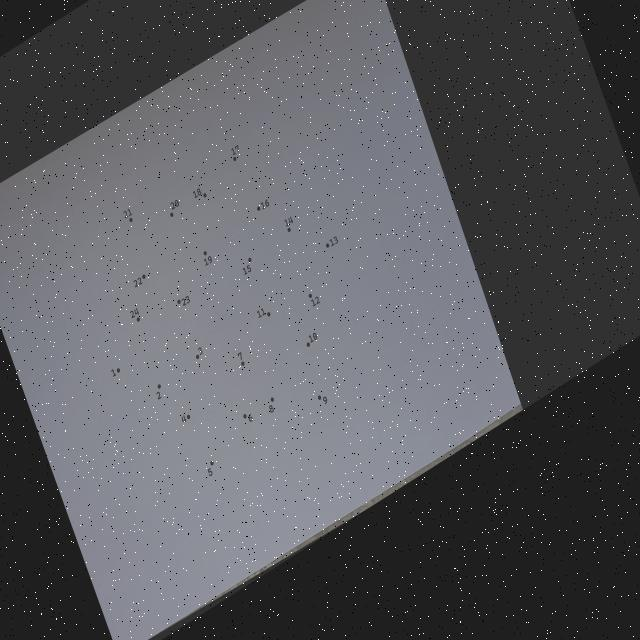Dot: (129, 217, 133, 223), (232, 156, 236, 162), (142, 274, 146, 280), (177, 299, 181, 305), (210, 460, 214, 466), (170, 212, 174, 217), (203, 251, 207, 256), (136, 317, 140, 322), (267, 312, 271, 317), (157, 384, 161, 389), (241, 361, 245, 366), (243, 414, 247, 419), (270, 397, 274, 402), (318, 395, 322, 400), (306, 342, 310, 347), (257, 206, 261, 211), (196, 354, 199, 360), (187, 414, 190, 420), (248, 258, 252, 262), (287, 228, 291, 232), (117, 368, 120, 373), (326, 243, 329, 248), (309, 294, 312, 298), (204, 193, 206, 198)
DotNumber: (306, 332, 318, 348), (133, 274, 146, 288), (242, 258, 252, 275), (308, 293, 320, 307), (170, 200, 179, 217), (284, 216, 293, 233), (123, 208, 133, 223), (203, 251, 213, 266), (130, 307, 140, 322), (257, 199, 269, 211), (326, 236, 338, 248), (193, 188, 207, 198), (177, 296, 191, 306), (257, 308, 271, 318), (231, 145, 239, 162), (237, 352, 245, 366), (207, 461, 214, 476), (318, 395, 328, 405), (156, 384, 162, 400), (243, 413, 253, 422), (196, 347, 203, 359), (111, 368, 120, 377), (269, 397, 274, 413), (182, 414, 190, 423)
Number: (260, 198, 270, 210), (133, 277, 143, 288), (308, 332, 318, 343), (123, 208, 133, 218), (242, 265, 252, 275), (311, 296, 320, 307), (284, 216, 293, 227), (329, 236, 338, 247), (170, 200, 179, 210), (193, 188, 202, 198), (130, 308, 139, 318), (181, 296, 190, 306), (257, 308, 266, 318), (231, 145, 239, 155), (204, 256, 212, 266), (111, 368, 117, 377), (181, 414, 187, 423), (322, 396, 328, 405), (237, 352, 242, 361), (248, 413, 253, 422), (156, 392, 162, 399), (198, 347, 203, 355), (269, 405, 274, 413), (208, 468, 212, 476)
